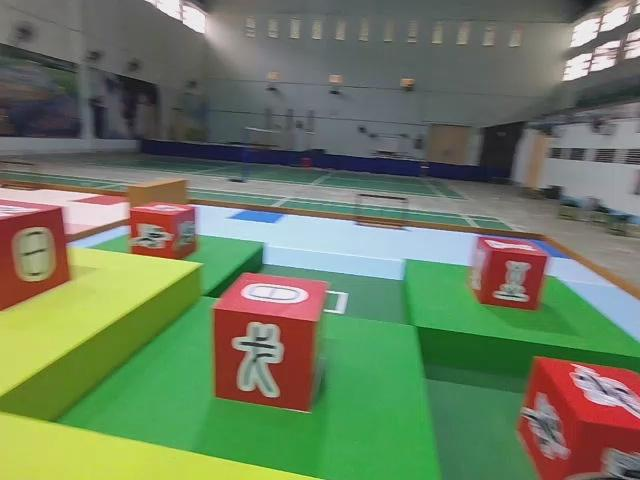R1: (514, 353, 640, 480), (130, 202, 199, 262)
R2 Fake: (212, 273, 329, 415), (0, 199, 72, 312)
R2 Real: (470, 237, 548, 311)
